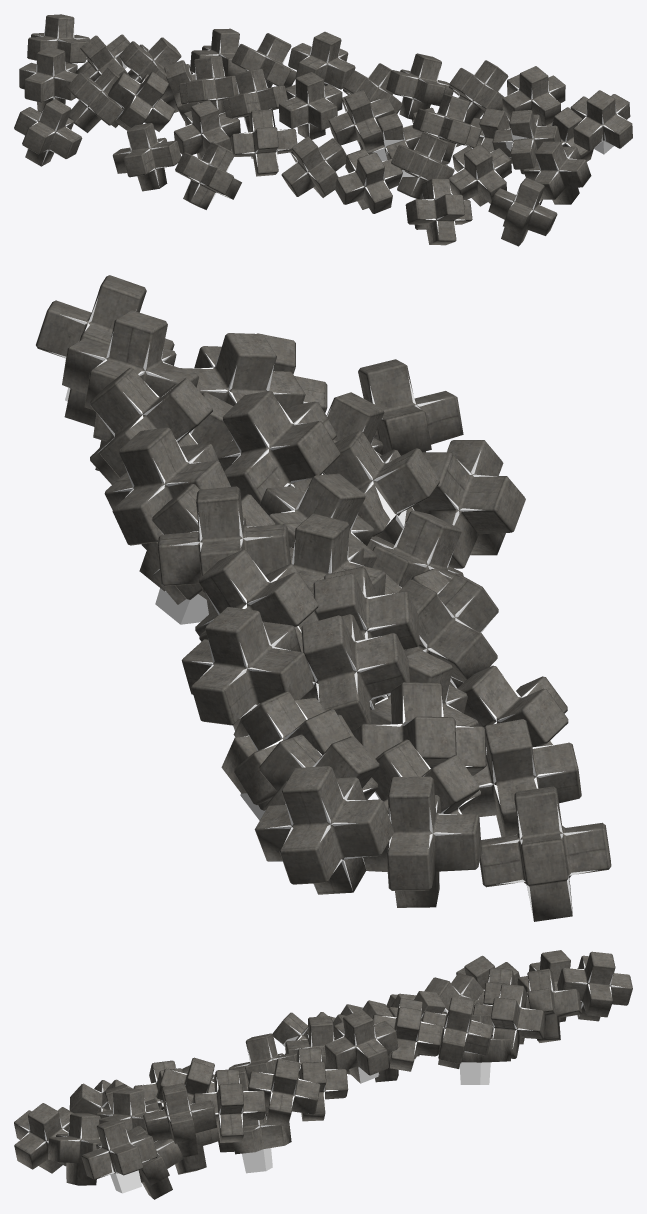
Rendered from objects_un_t05dampingblock01.gltf.
3 renders of one model, top to bottom at view 1: azimuth 30°, elevation 25°; view 2: azimuth 150°, elevation 25°; view 3: azimuth 270°, elevation 25°, orthographic. The views are drawn at different scales.
Parts seen in each view (by area): view 1: um_objects_un_t05dampingblock01_model_lod0Shape:objects_un_t (×2); view 2: um_objects_un_t05dampingblock01_model_lod0Shape:objects_un_t (×2); view 3: um_objects_un_t05dampingblock01_model_lod0Shape:objects_un_t (×2).
Part boxes in pixels (x1,y1,x2,y2): um_objects_un_t05dampingblock01_model_lod0Shape:objects_un_t (×2): [14, 14, 632, 246]; um_objects_un_t05dampingblock01_model_lod0Shape:objects_un_t (×2): [36, 275, 611, 921]; um_objects_un_t05dampingblock01_model_lod0Shape:objects_un_t (×2): [14, 950, 632, 1199].
Size of what is drawn, in the model's own units: 39.35 by 10.86 by 43.13.
2 materials, 1 textured.
